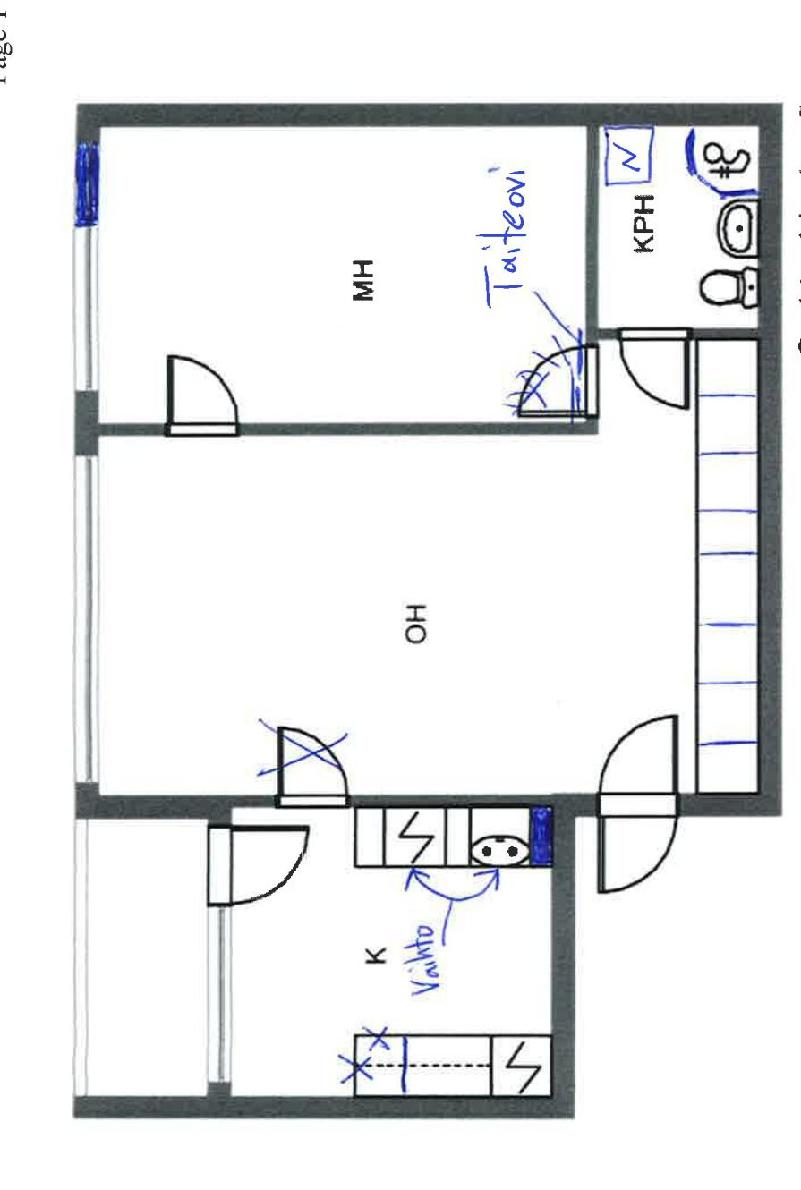door: (597, 711, 696, 917), (160, 352, 251, 461), (207, 825, 307, 909), (491, 344, 605, 415), (270, 722, 357, 815), (616, 325, 694, 419)
window: (74, 460, 106, 785), (79, 819, 98, 1098), (72, 218, 102, 391)
zone: (102, 348, 749, 787), (100, 122, 586, 425), (227, 806, 551, 1095), (92, 817, 217, 1096), (598, 122, 757, 327)
